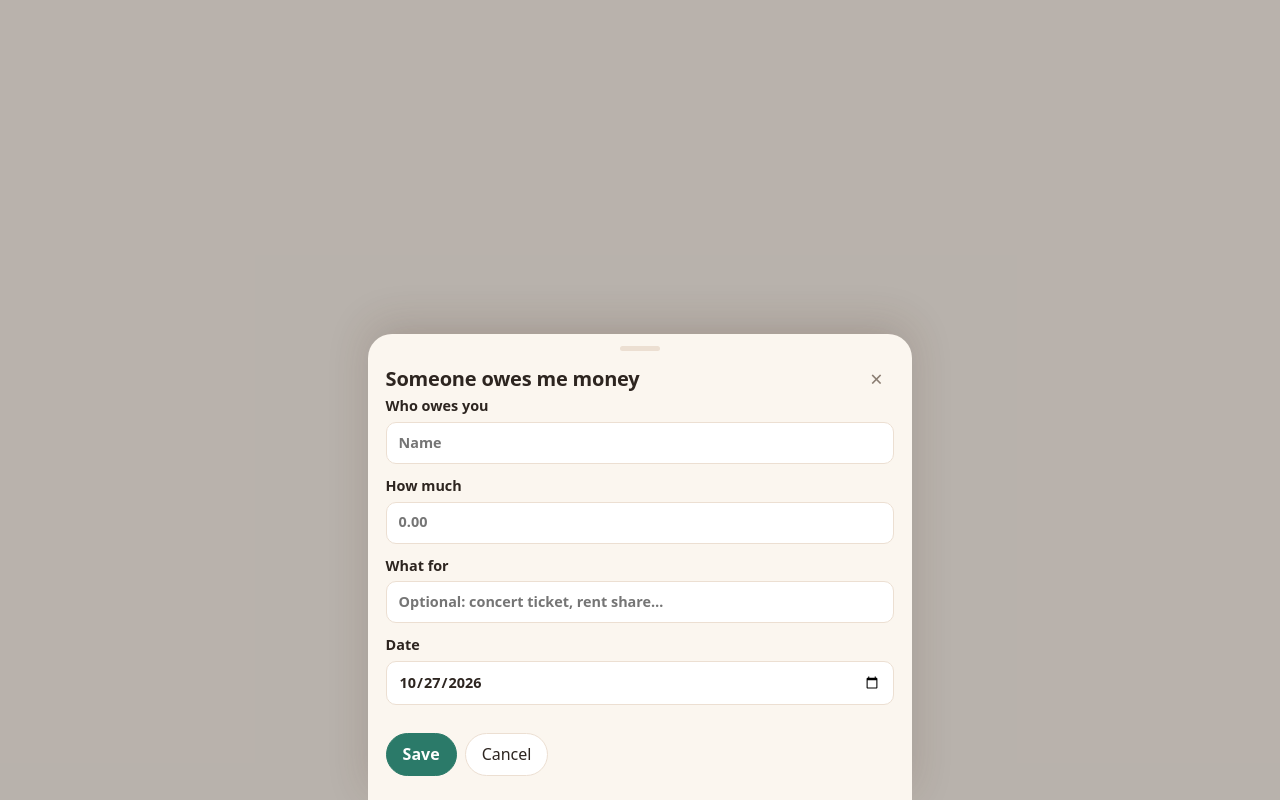
Test: OweMe › takes a new name too, and needs an amount
The image size is (1280, 800).
Type "Linh" into the field labelled "Who owes you". click: (640, 443)
box: [386,422,894,464]
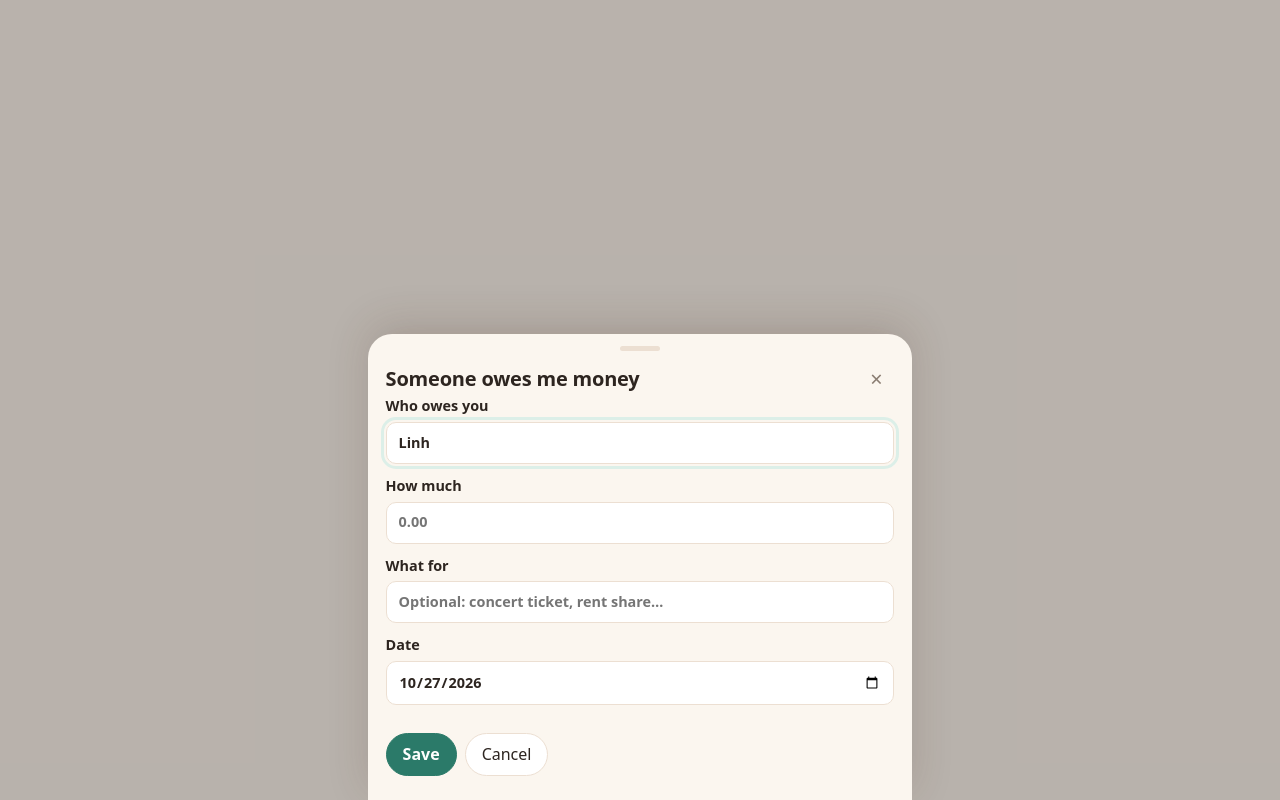
Click the button "Save". click: (421, 755)
box: [386,733,457,776]
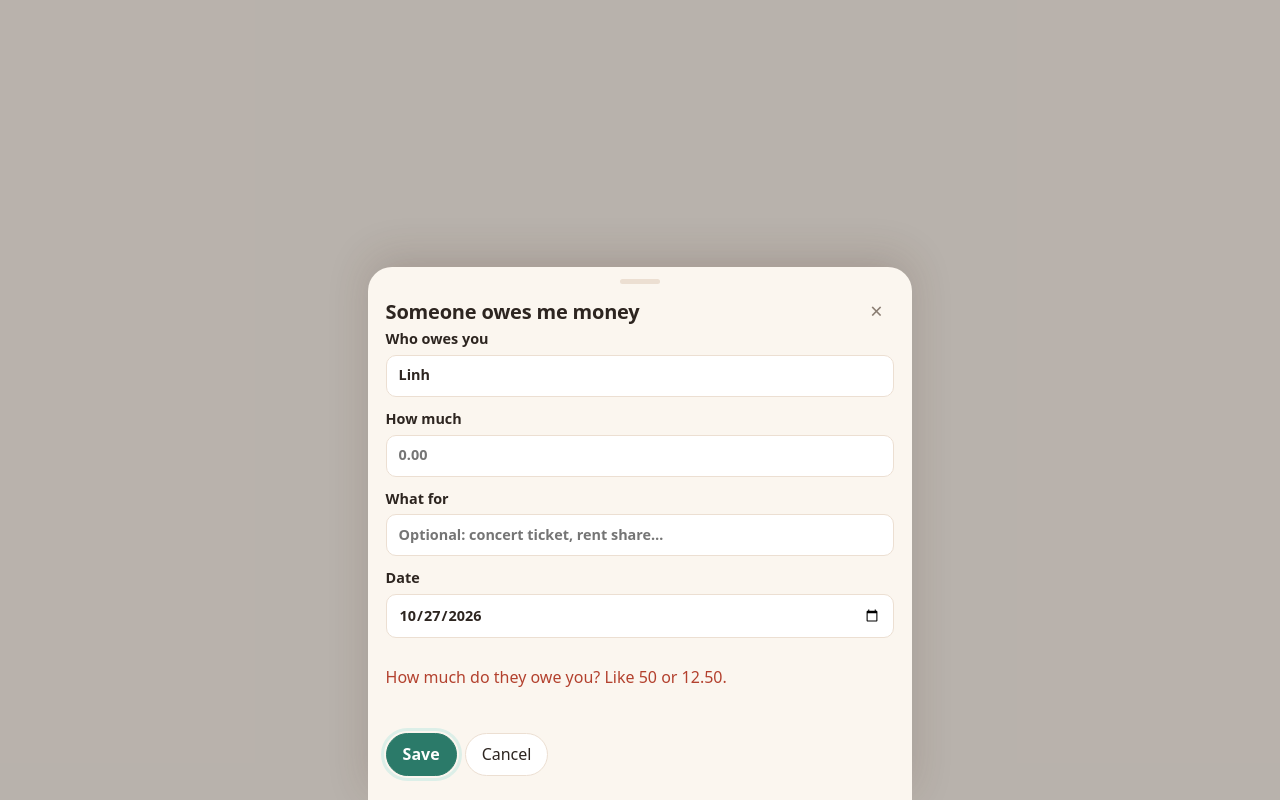
Expected: the message shows "How much", [386,666,727,688]
